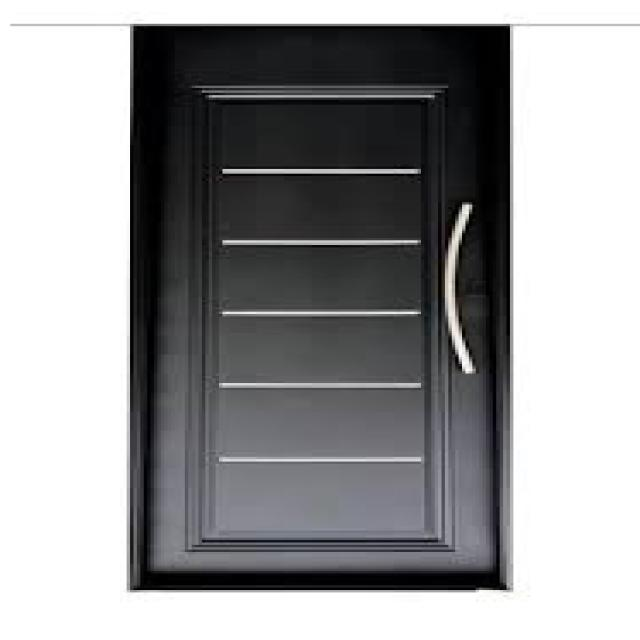door: (130, 25, 510, 591)
